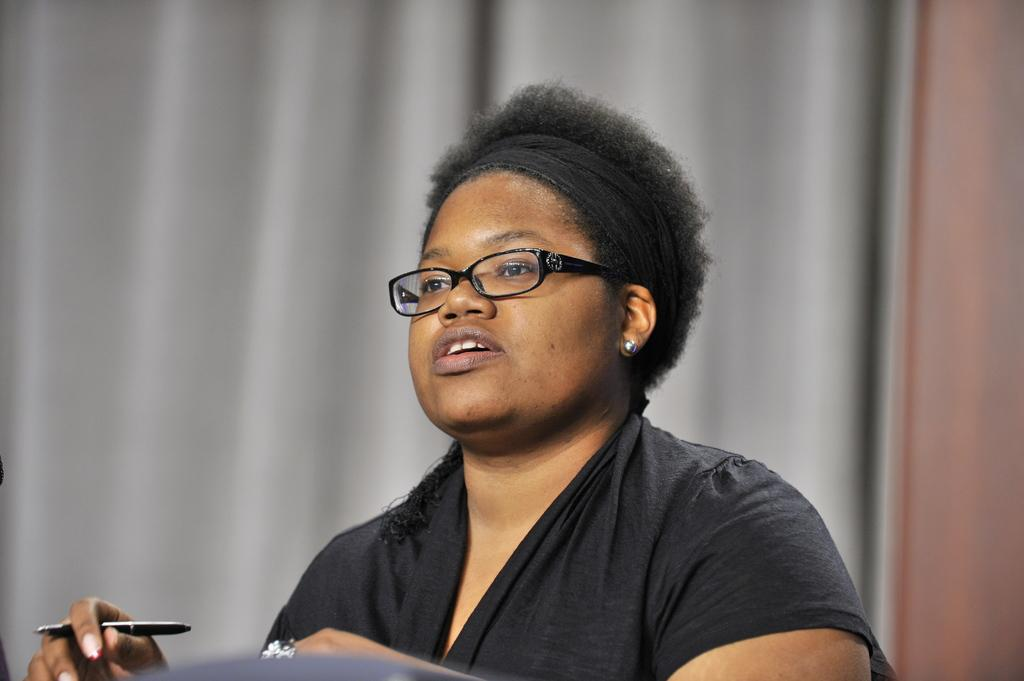pen: (28, 623, 191, 650)
